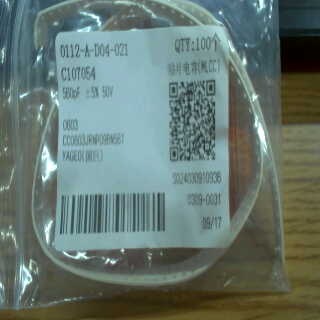560pF: (58, 83, 86, 101)
